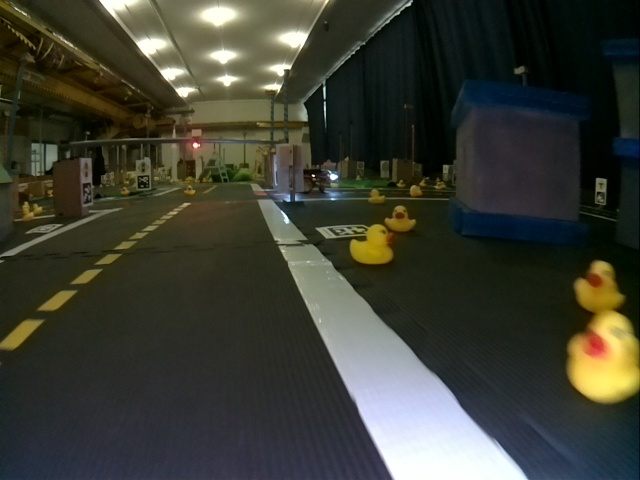Duckie: (566, 311, 638, 404), (574, 260, 623, 307), (350, 225, 393, 264), (388, 206, 416, 232), (366, 188, 385, 205), (186, 185, 196, 194)
Intersection sign: (596, 182, 605, 189)
QR code: (316, 224, 371, 239), (82, 184, 92, 203), (137, 178, 149, 188), (597, 193, 605, 203)
Signal sign: (137, 161, 150, 173)
